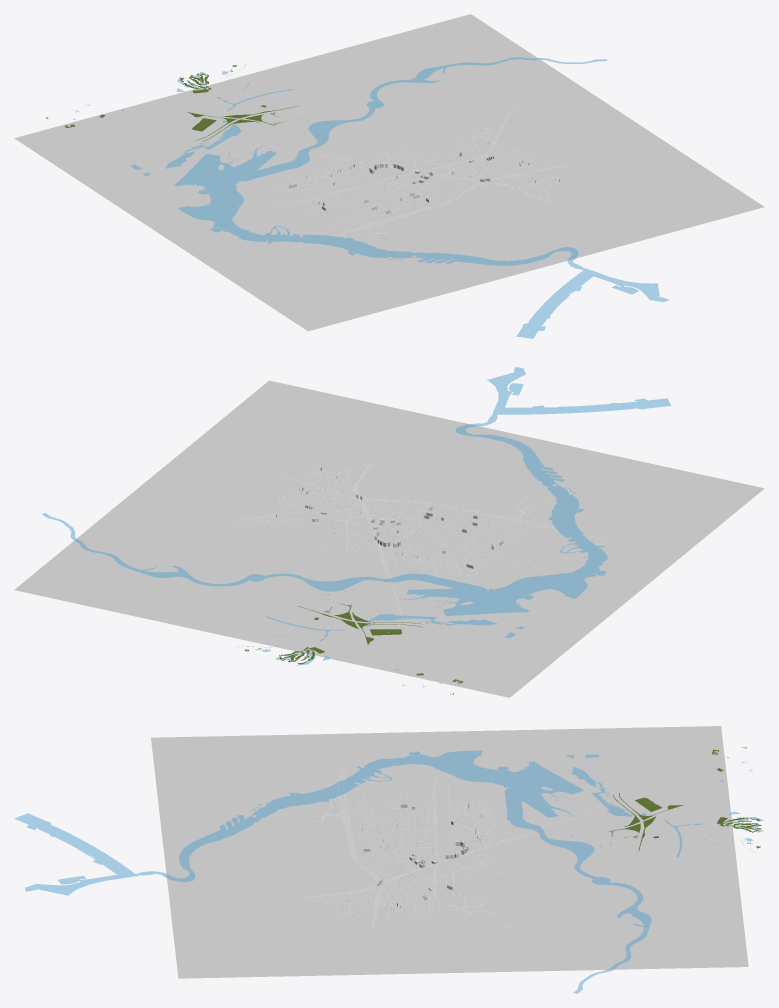
The model's file is The_Winslow_mini_map.glb.
The picture shows the model from 3 angles, top to bottom: view 1: azimuth 30°, elevation 25°; view 2: azimuth 150°, elevation 25°; view 3: azimuth 270°, elevation 25°; orthographic projection. The views are drawn at different scales.
Visible parts, largest first — view 1: ground, tree, road; view 2: ground, tree, road; view 3: ground, tree, road.
Boxes of the visible parts, bbox=[...] form: ground: bbox=[14, 14, 764, 331]; tree: bbox=[46, 57, 668, 338]; road: bbox=[184, 96, 571, 266]; ground: bbox=[14, 380, 764, 697]; tree: bbox=[42, 367, 670, 694]; road: bbox=[159, 460, 621, 636]; ground: bbox=[151, 726, 748, 978]; tree: bbox=[14, 747, 763, 993]; road: bbox=[244, 760, 643, 944].
Bounding box in the file's own units: 4.31e+08 × 5061673 × 5.08e+08.
5 materials, 1 textured.
